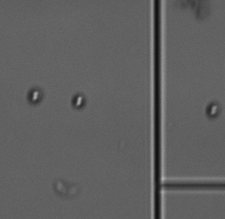Living Cell: (204, 100, 222, 119), (27, 87, 43, 104), (69, 93, 86, 109)
